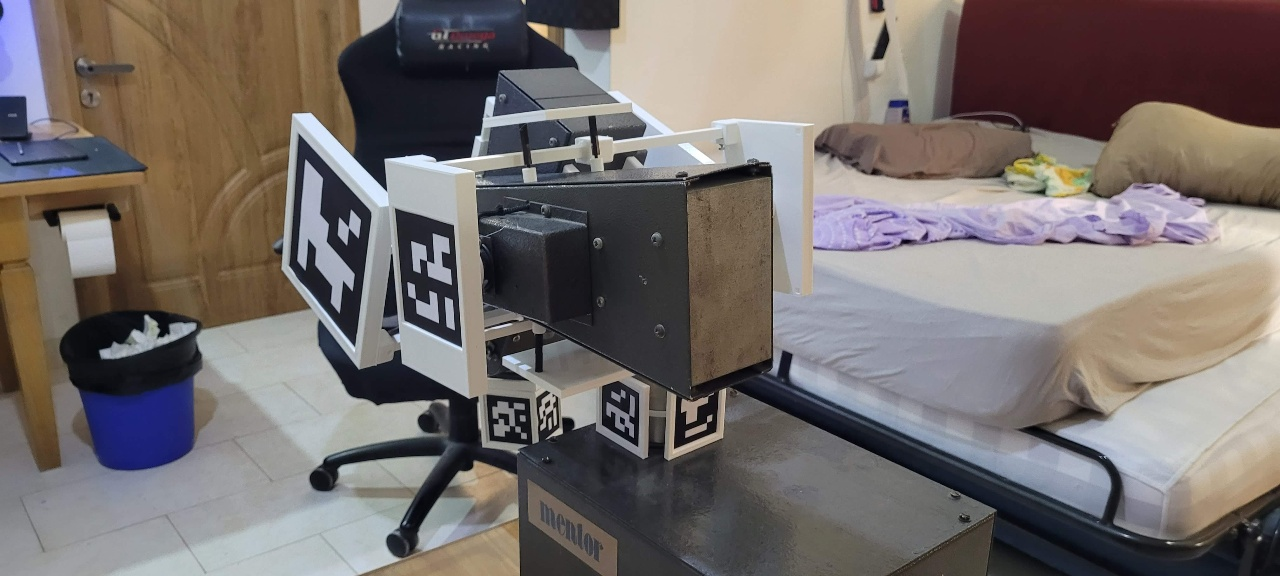Robot: (278, 63, 817, 465)
